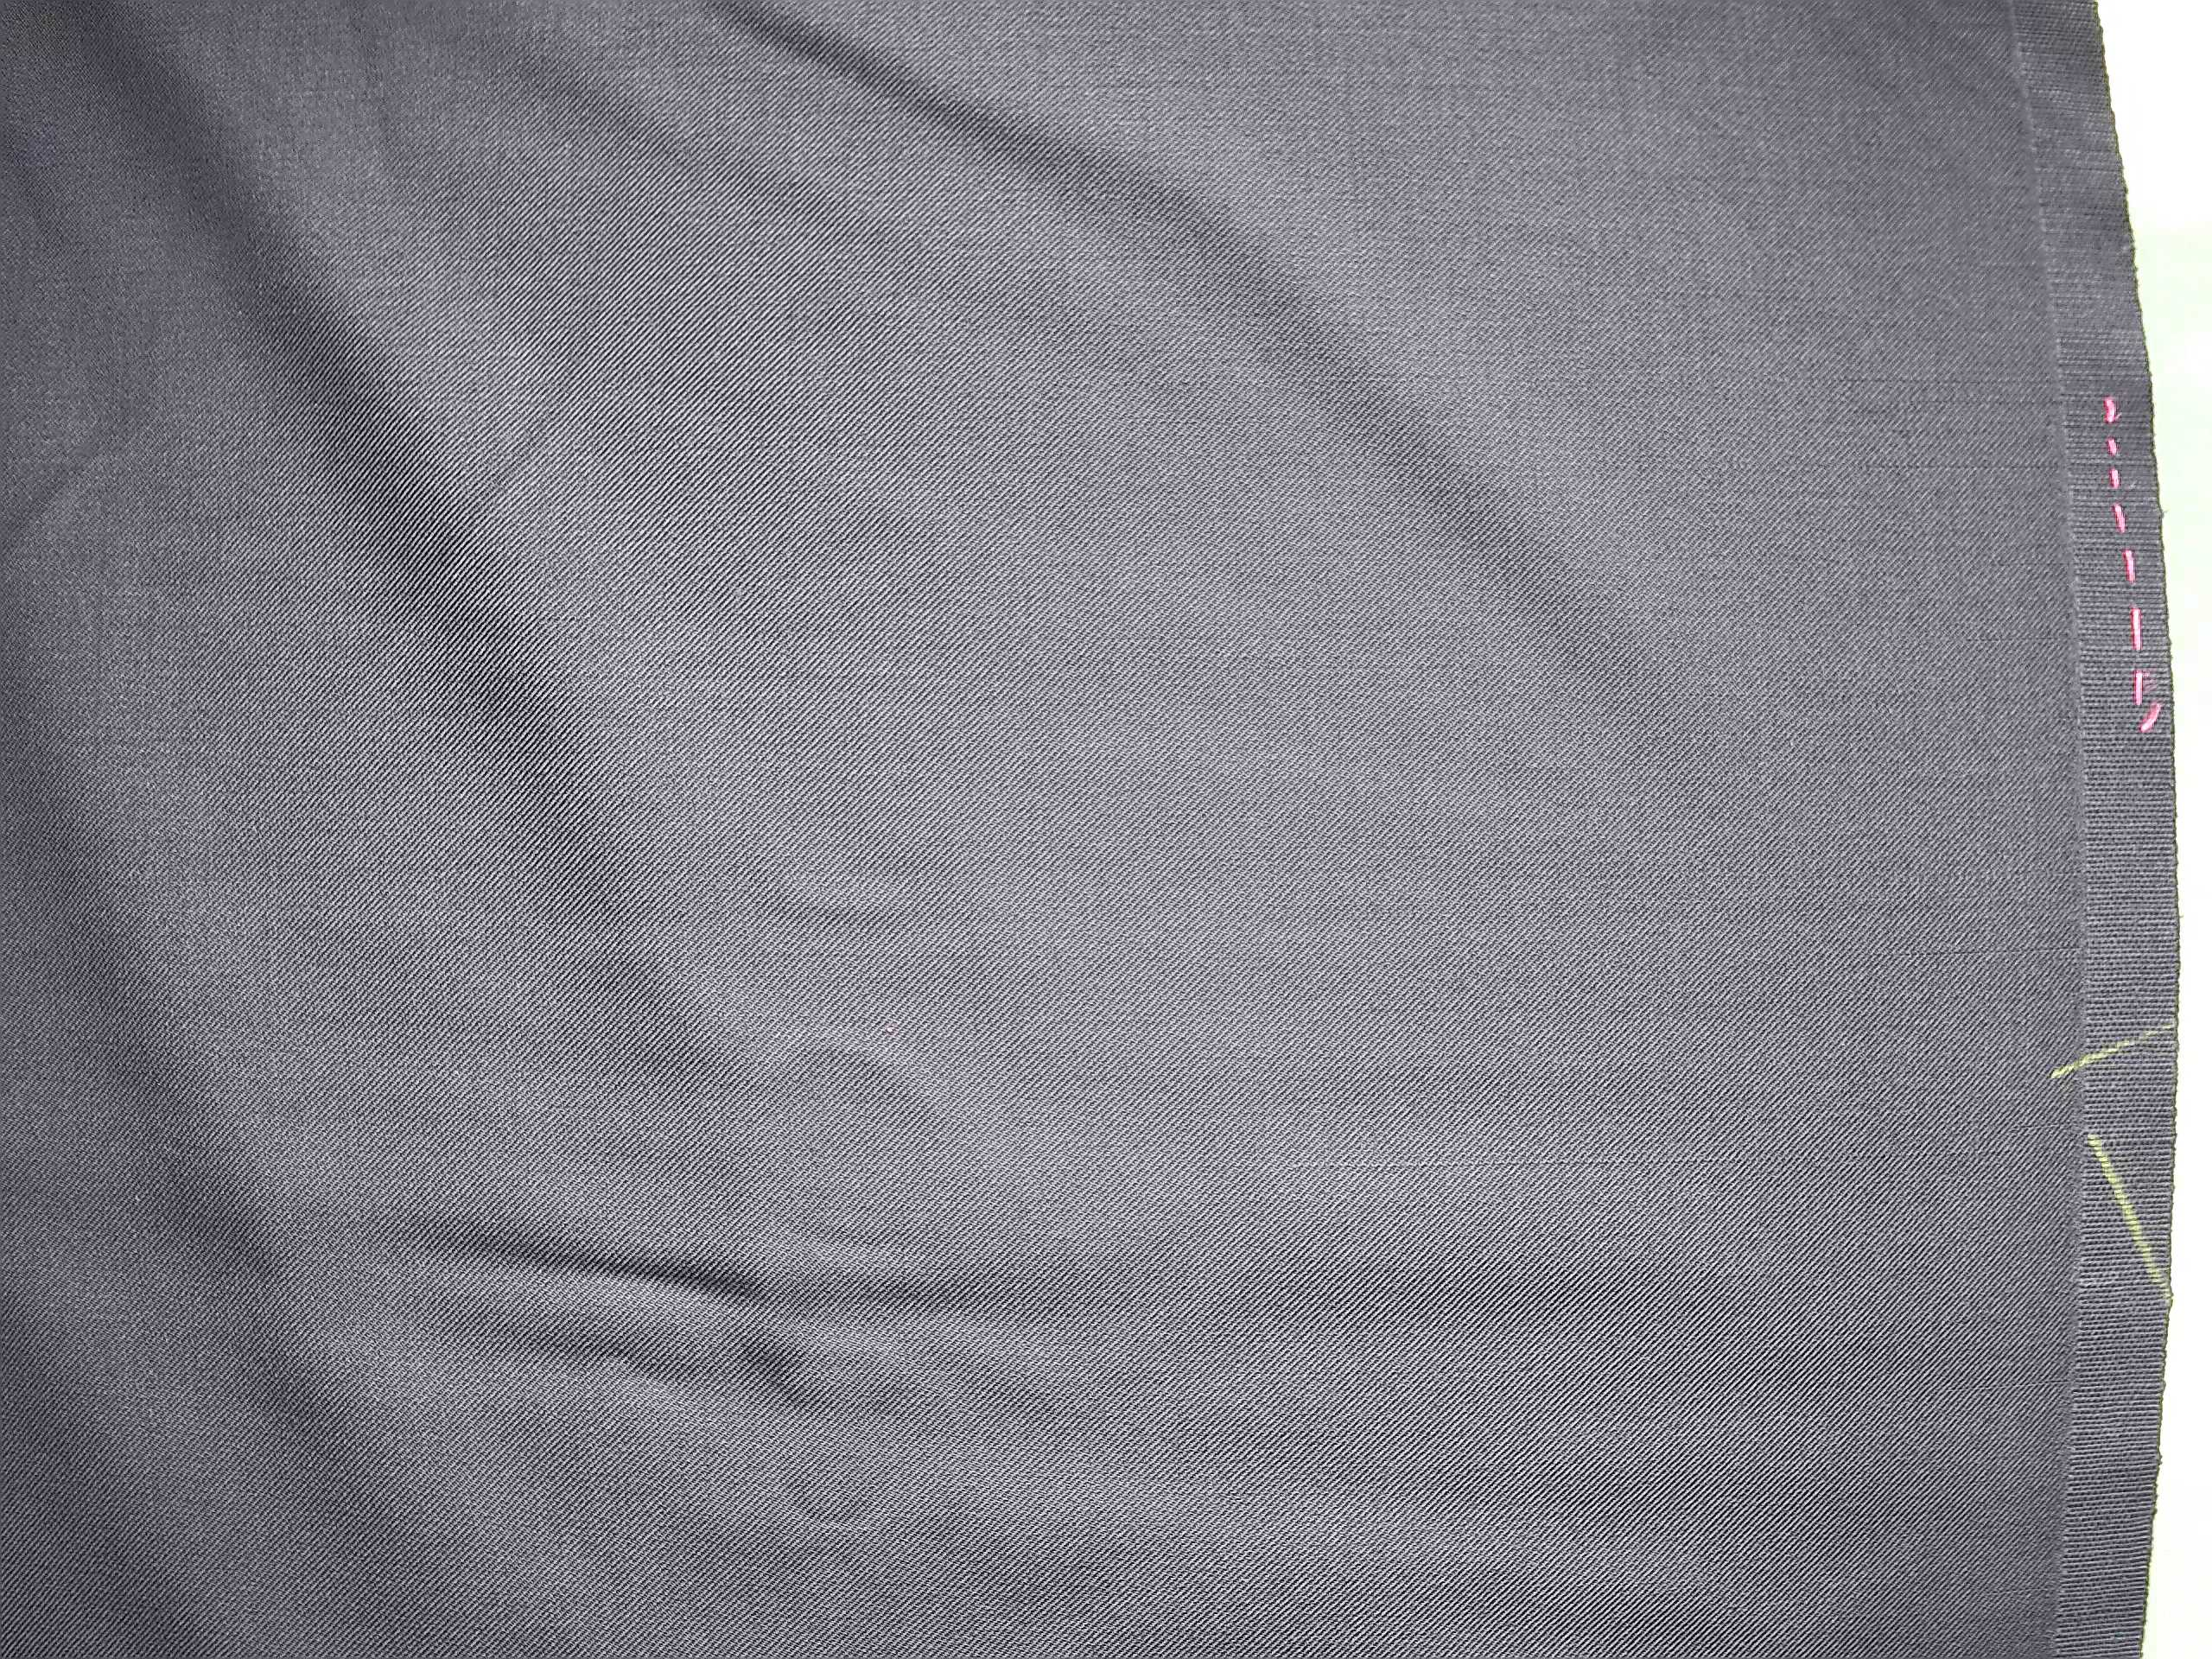others: (1153, 1133, 2078, 1183), (1792, 359, 2055, 406), (1806, 450, 2066, 483), (1860, 938, 2083, 967)
